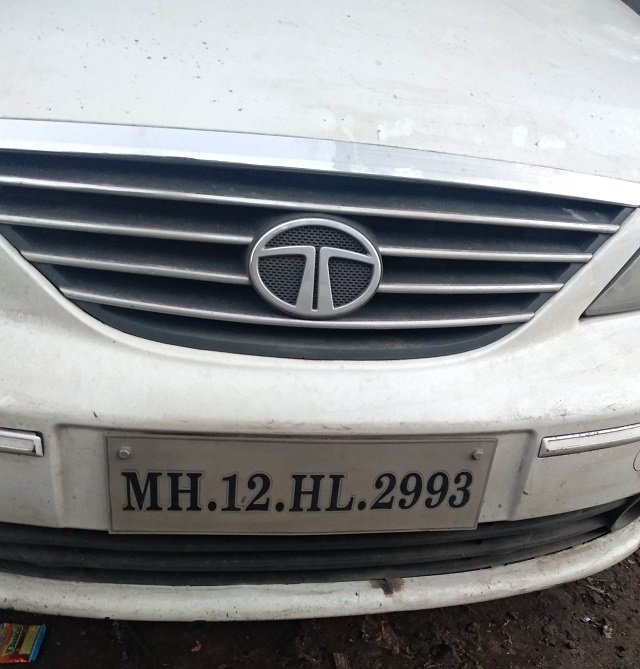licenseplate: (97, 433, 497, 534)
